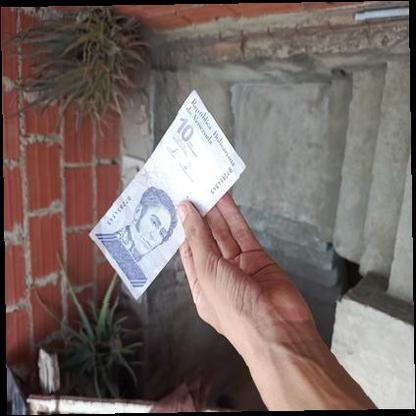ten-front-vef: (88, 89, 245, 300)
